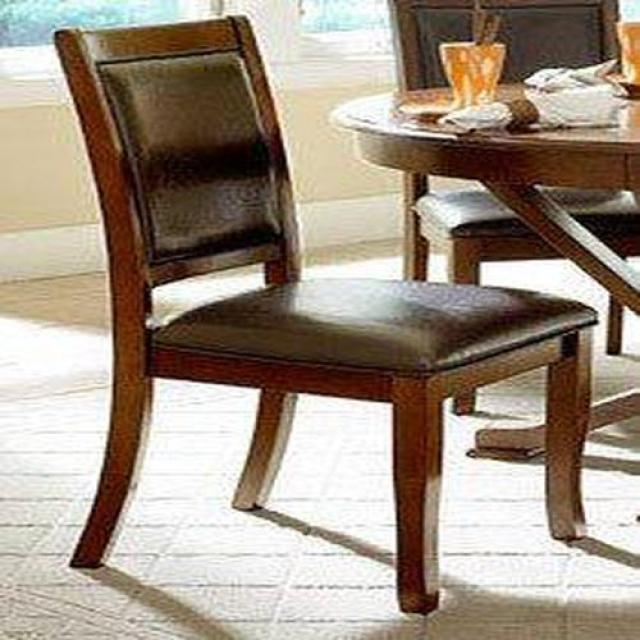chair: (54, 17, 598, 618)
